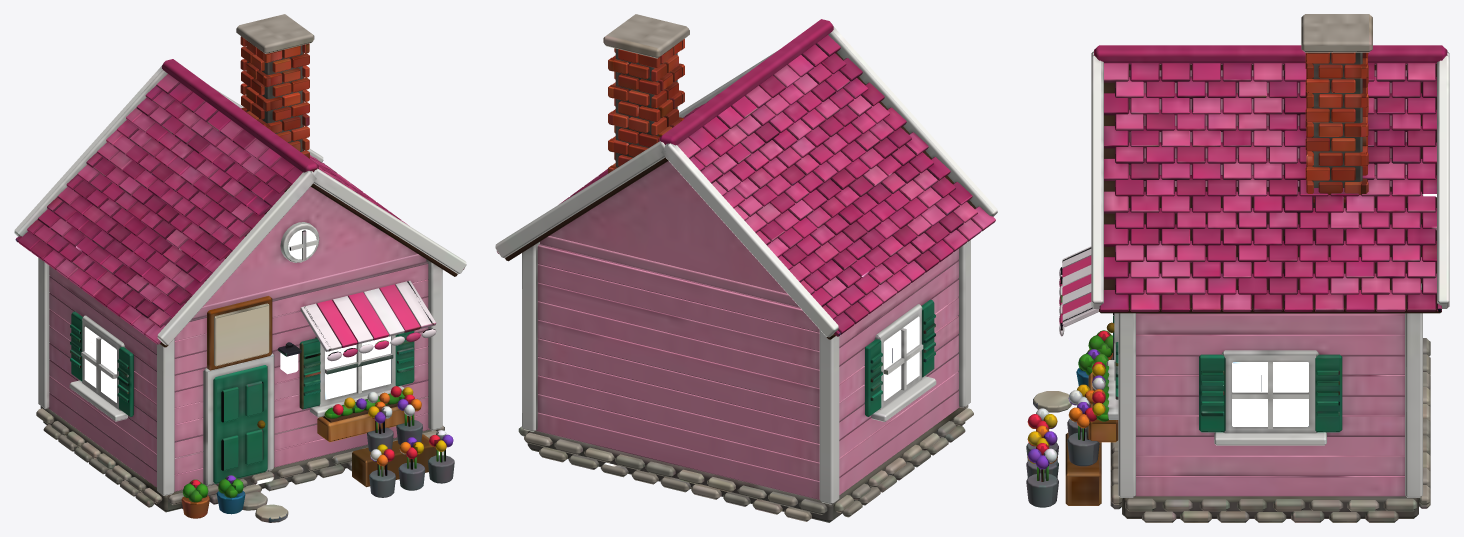
Rendered from florist.glb.
3 renders of one model, left to right at view 1: azimuth 30°, elevation 25°; view 2: azimuth 150°, elevation 25°; view 3: azimuth 270°, elevation 25°, orthographic. The views are drawn at different scales.
Parts seen in each view (by area): view 1: florist; view 2: florist; view 3: florist.
Boxes of the visible parts, x1,y1,x2,y2 form: florist: [14, 14, 466, 522]; florist: [495, 14, 997, 522]; florist: [1026, 14, 1449, 522].
Size of the model in its own units: 1.68 by 1.93 by 1.65.
Materials: 1 (1 with a texture image).
